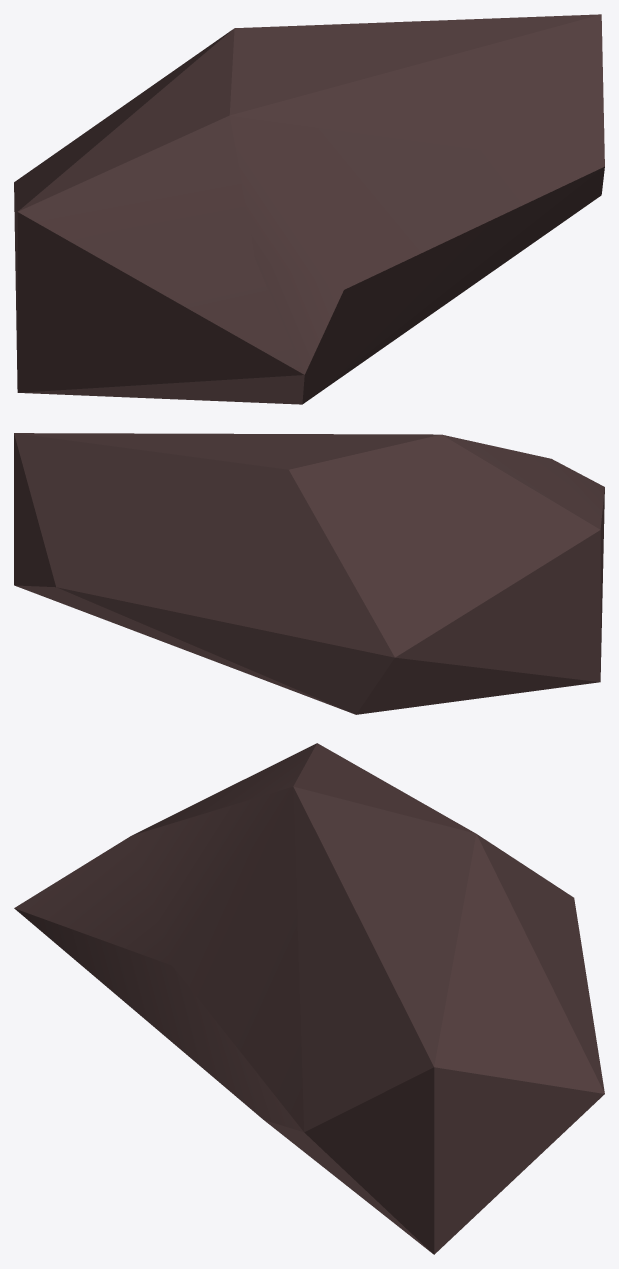
The model's file is liver.fbx.
The picture shows the model from 3 angles, top to bottom: view 1: azimuth 30°, elevation 25°; view 2: azimuth 150°, elevation 25°; view 3: azimuth 270°, elevation 25°; orthographic projection. The views are drawn at different scales.
Visible parts, largest first — view 1: pPlatonic6; view 2: pPlatonic6; view 3: pPlatonic6.
Part boxes in pixels (<box>): pPlatonic6: <box>14,14,604,404</box>; pPlatonic6: <box>14,433,604,714</box>; pPlatonic6: <box>14,743,604,1254</box>.
Bounding box in the file's own units: 232 × 101 × 179.
